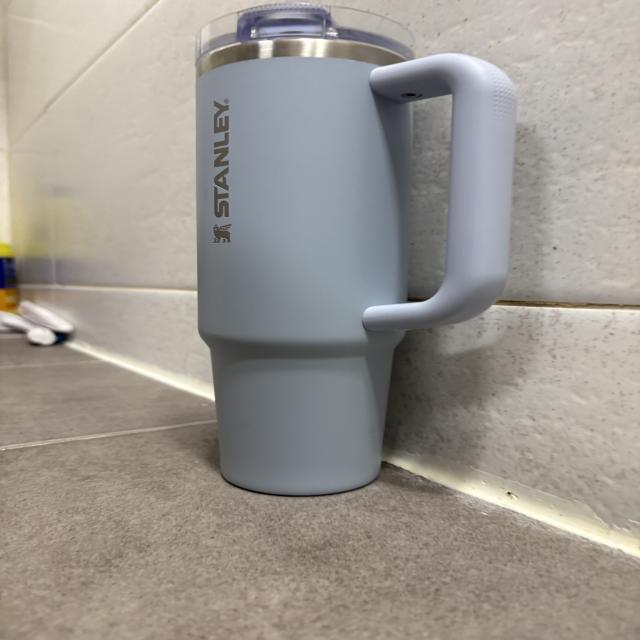waterbottle: (197, 2, 510, 496)
